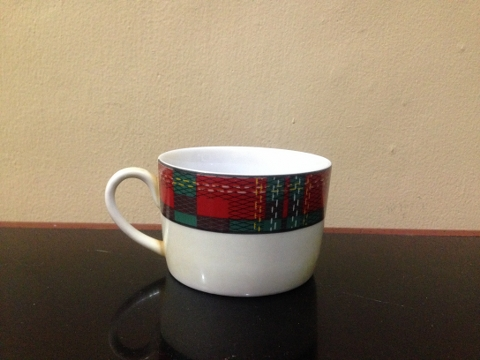tempat minum: (105, 146, 332, 298)
